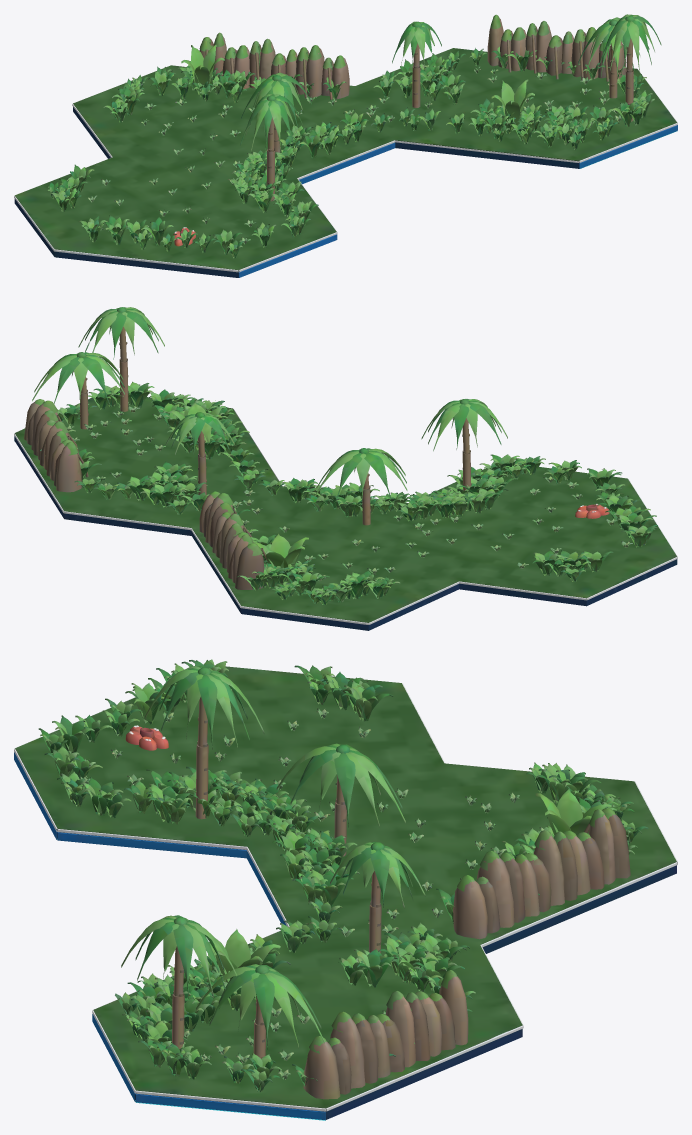
File: field_cm12_01.glb
The picture shows the model from 3 angles, top to bottom: view 1: azimuth 30°, elevation 25°; view 2: azimuth 150°, elevation 25°; view 3: azimuth 270°, elevation 25°; orthographic projection. The views are drawn at different scales.
Parts seen in each view (by area): view 1: field_cm12_01-runtime-static; view 2: field_cm12_01-runtime-static; view 3: field_cm12_01-runtime-static.
Part boxes in pixels (box(x1,y1,x2,y2)): field_cm12_01-runtime-static: box(14, 14, 677, 277); field_cm12_01-runtime-static: box(14, 307, 677, 630); field_cm12_01-runtime-static: box(14, 659, 677, 1120).
Bounding box in the file's own units: 19.17 × 3.27 × 12.12.
1 material, 1 textured.
